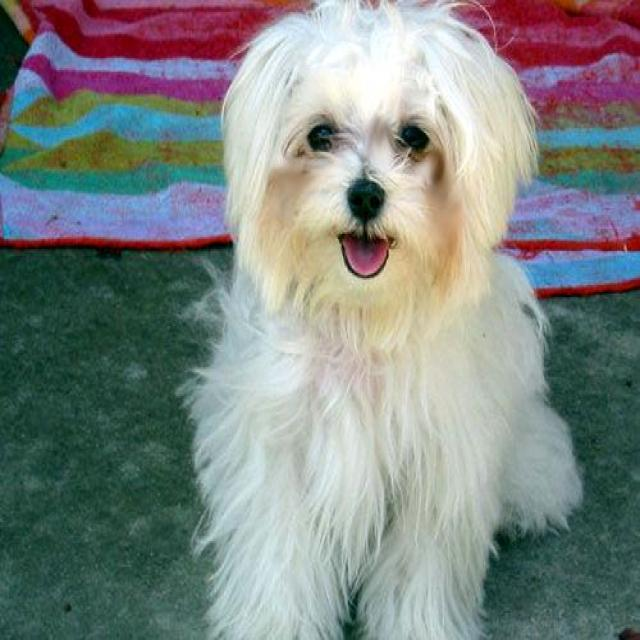maltese_dog: (185, 0, 586, 638)
